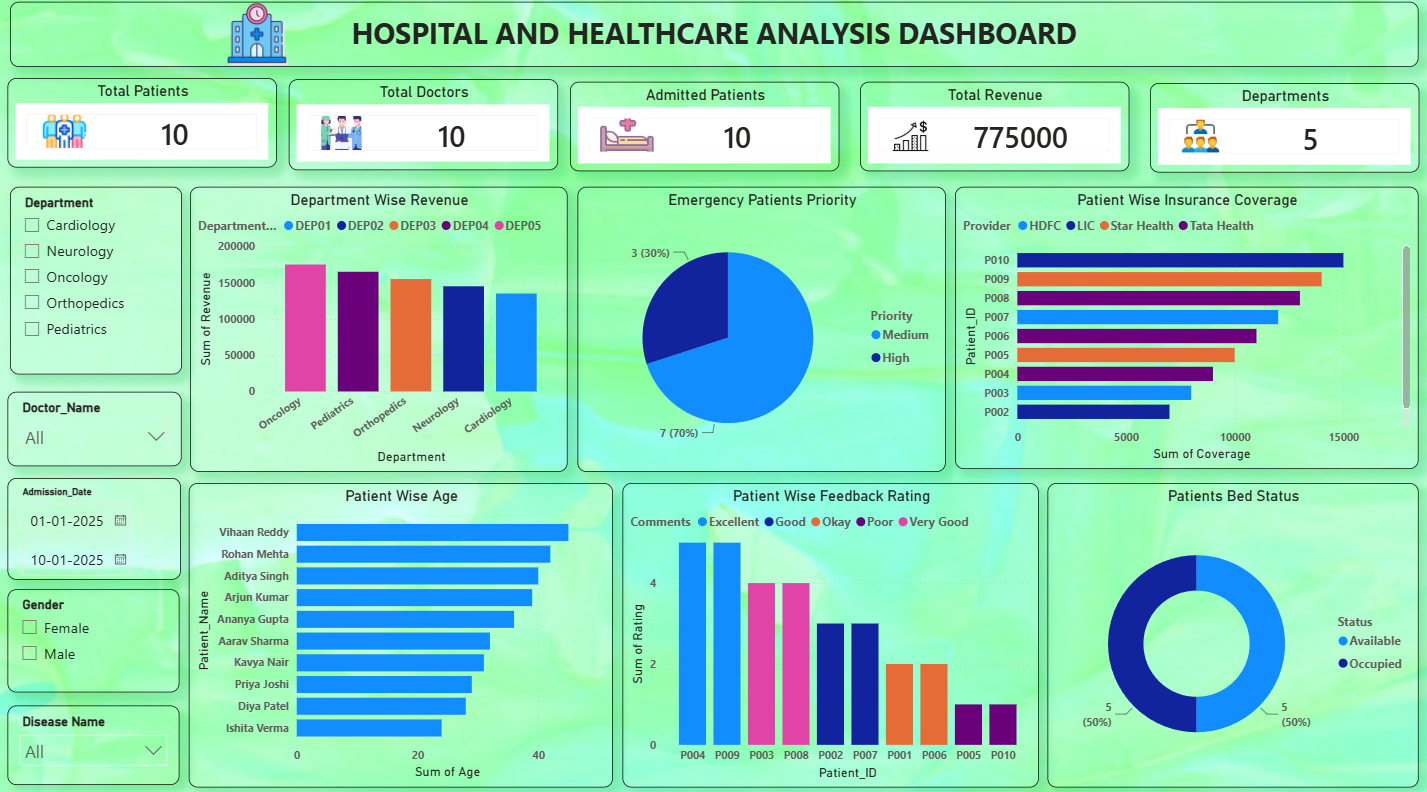

What the dashboard file says about the page in this screenshot:
{"tool":"powerbi","page":{"name":"Page 1","canvas":[1600,900],"ordinal":0},"visuals":[{"type":"textbox","box":[11.6,10.2,1572.7,72.7],"z":0},{"type":"slicer","fields":{"Values":["Department_Lookup.Department"]},"box":[11.6,216.6,191.9,209.3],"z":1000},{"type":"slicer","fields":{"Values":["Doctors_Data.Doctor_Name"]},"box":[8.7,444.8,194.8,82.8],"z":2000},{"type":"slicer","fields":{"Values":["Patient_Data.Gender"]},"box":[8.7,665.7,191.9,114.8],"z":3000},{"type":"slicer","fields":{"Values":["Diagnosis_Data.Disease Name"]},"box":[8.7,795.1,191.9,88.7],"z":4000},{"type":"slicer","fields":{"Values":["Admission_Data.Admission_Date"]},"box":[8.7,542.2,193.3,113.4],"z":5000},{"type":"cardVisual","title":"Total Patients","fields":{"Data":["Count(Admission_Data.Patient_ID)"]},"box":[8.7,94.5,300.9,100.3],"z":6000},{"type":"cardVisual","title":"Total Doctors","fields":{"Data":["Count(Admission_Data.Doctor_ID)"]},"box":[322.7,95.9,300.9,101.7],"z":7000},{"type":"cardVisual","title":"Admitted Patients","fields":{"Data":["Count(Admission_Data.Admission_ID)"]},"box":[636.6,98.8,300.9,100.3],"z":8000},{"type":"cardVisual","title":"Total Revenue","fields":{"Data":["Sum(Revenue_Data.Revenue)"]},"box":[960.8,98.8,300.9,100.3],"z":9000},{"type":"cardVisual","title":"Departments","fields":{"Data":["Count(Department_Data.Department)"]},"box":[1283.4,100.3,300.9,100.3],"z":10000},{"type":"columnChart","title":"Department Wise Revenue","fields":{"Y":["Sum(Revenue_Data.Revenue)"],"Series":["Revenue_Data.Department_ID"],"Category":["Department_Lookup.Department"]},"box":[212.2,216.6,421.5,318.3],"z":11000},{"type":"barChart","title":"Patient Wise Age","fields":{"Category":["Patient_Data.Patient_Name"],"Y":["Sum(Patient_Data.Age)"]},"box":[210.8,546.5,473.8,340.1],"z":12000},{"type":"columnChart","title":"Patient Wise Feedback Rating","fields":{"Category":["Patient_Feedback.Patient_ID"],"Y":["Sum(Patient_Feedback.Rating)"],"Series":["Patient_Feedback.Comments"]},"box":[694.8,546.5,465.1,340.1],"z":13000},{"type":"donutChart","title":"Patients Bed Status","fields":{"Y":["CountNonNull(Bed_Management.Bed_ID)"],"Category":["Bed_Management.Status"]},"box":[1170.1,546.5,414.2,340.1],"z":14000},{"type":"pieChart","title":"Emergency Patients Priority","fields":{"Y":["CountNonNull(Emergency_Cases.Emergency_ID)"],"Category":["Emergency_Cases.Priority"]},"box":[645.4,216.6,411.3,318.3],"z":15000},{"type":"barChart","title":"Patient Wise Insurance Coverage","fields":{"Series":["Insurance_Data.Provider"],"Y":["Sum(Insurance_Data.Coverage)"],"Category":["Insurance_Data.Patient_ID"]},"box":[1066.9,216.6,517.4,315.4],"z":16000},{"type":"image","box":[219.5,10.2,138.1,72.7],"z":17000}]}

Visuals, with their boxes in screenshot pixels (x1, y1, x2, y2), scaled from the page's 1600x900 canvas onto the 1427x792 screenshot:
textbox: <box>10,9,1413,73</box>
slicer - Department_Lookup.Department: <box>10,191,181,375</box>
slicer - Doctors_Data.Doctor_Name: <box>8,391,181,464</box>
slicer - Patient_Data.Gender: <box>8,586,179,687</box>
slicer - Diagnosis_Data.Disease Name: <box>8,700,179,778</box>
slicer - Admission_Data.Admission_Date: <box>8,477,180,577</box>
"Total Patients" cardVisual: <box>8,83,276,171</box>
"Total Doctors" cardVisual: <box>288,84,556,174</box>
"Admitted Patients" cardVisual: <box>568,87,836,175</box>
"Total Revenue" cardVisual: <box>857,87,1125,175</box>
"Departments" cardVisual: <box>1145,88,1413,177</box>
"Department Wise Revenue" columnChart: <box>189,191,565,471</box>
"Patient Wise Age" barChart: <box>188,481,611,780</box>
"Patient Wise Feedback Rating" columnChart: <box>620,481,1034,780</box>
"Patients Bed Status" donutChart: <box>1044,481,1413,780</box>
"Emergency Patients Priority" pieChart: <box>576,191,942,471</box>
"Patient Wise Insurance Coverage" barChart: <box>952,191,1413,468</box>
image: <box>196,9,319,73</box>
